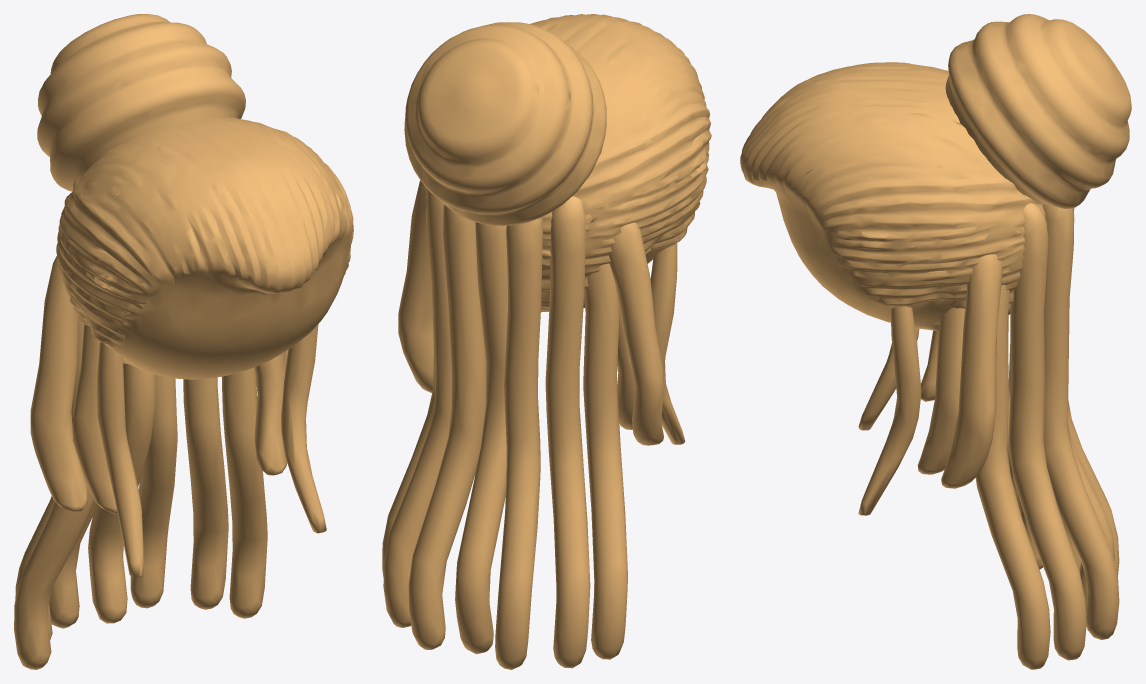
Rendered from hair-002-188c4611.glb.
The picture shows the model from 3 angles, left to right: view 1: azimuth 30°, elevation 25°; view 2: azimuth 150°, elevation 25°; view 3: azimuth 270°, elevation 25°; orthographic projection. The views are drawn at different scales.
Visible parts, largest first — view 1: Geo_Female_White_Hair.011; view 2: Geo_Female_White_Hair.011; view 3: Geo_Female_White_Hair.011.
Boxes of the visible parts, x1,y1,x2,y2 form: Geo_Female_White_Hair.011: [14, 14, 353, 669]; Geo_Female_White_Hair.011: [382, 14, 711, 669]; Geo_Female_White_Hair.011: [740, 14, 1131, 669].
Size of the model in its own units: 1.83 by 4.02 by 2.4.
